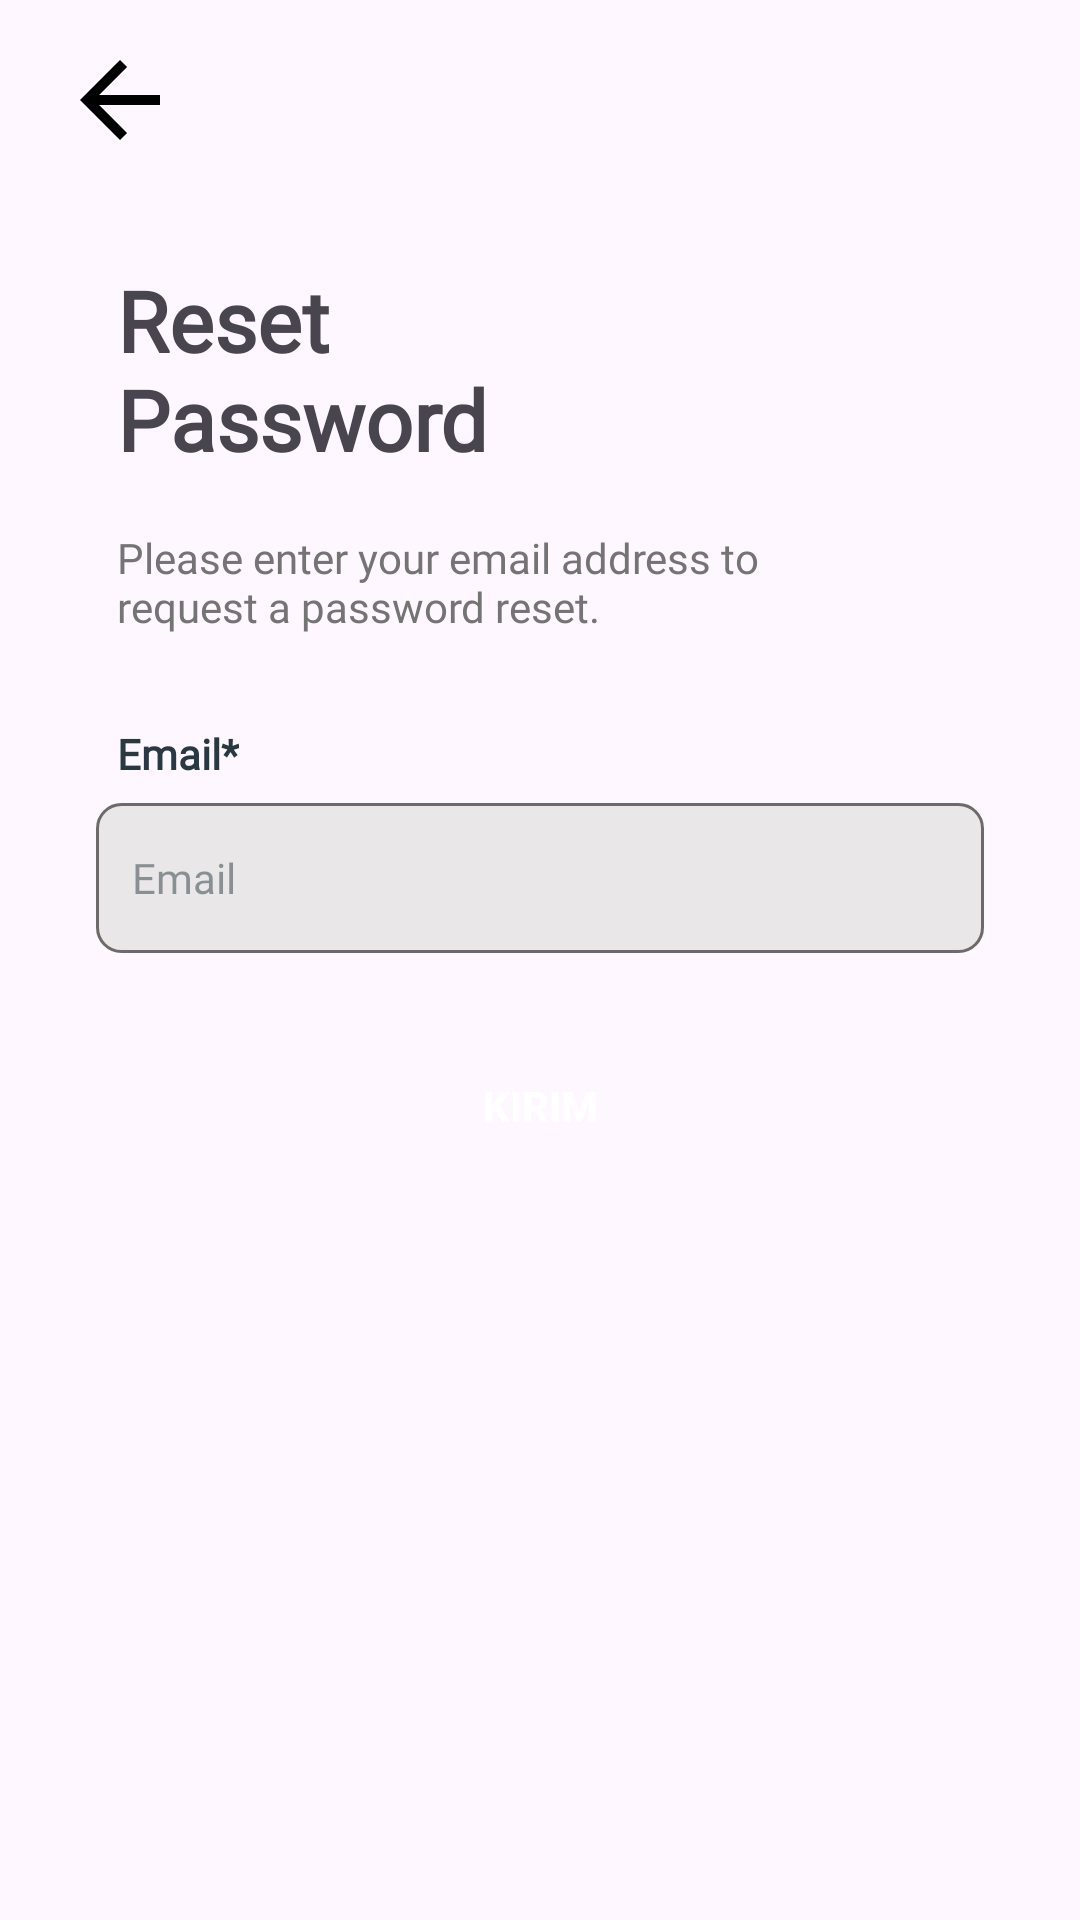

Where to tap for icons on this 1080w x 1920h app screen, as [x,y]:
arrow back: [120,100]
